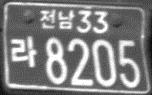0: (91, 37, 117, 87)
2: (67, 37, 94, 87)
3: (91, 10, 109, 34), (76, 8, 91, 34)
5: (117, 38, 141, 89)
8: (44, 36, 68, 85)
라: (9, 36, 38, 68)
전남_O: (40, 9, 74, 30)
